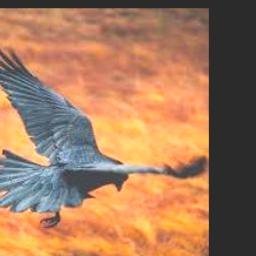Crow: (0, 42, 209, 227)
